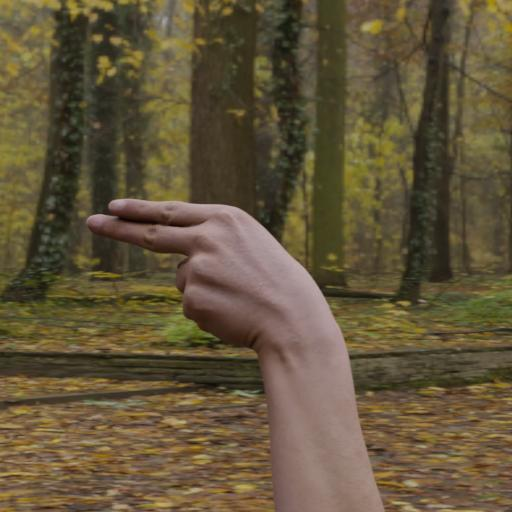H: (59, 167, 407, 468)
